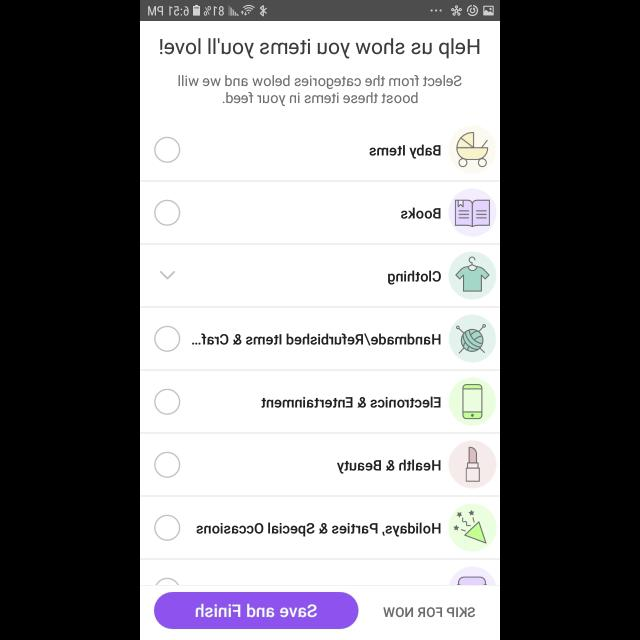checkbox: (156, 136, 180, 162), (156, 200, 180, 226), (156, 388, 180, 414), (156, 514, 180, 540), (156, 326, 180, 350), (156, 452, 180, 476)
icon: (160, 272, 174, 280)
image: (448, 126, 496, 174), (448, 188, 496, 236), (448, 252, 496, 300), (448, 315, 496, 363), (448, 378, 496, 426), (448, 441, 496, 489), (448, 504, 496, 550)
text: (178, 76, 462, 106), (160, 38, 480, 58), (196, 522, 440, 538), (192, 334, 440, 346), (262, 396, 440, 408), (336, 460, 440, 474), (370, 144, 440, 160), (383, 607, 475, 617), (388, 271, 440, 285), (400, 208, 440, 220)
textbutton: (154, 592, 358, 630)
uppertaskbar: (140, 1, 500, 21)
